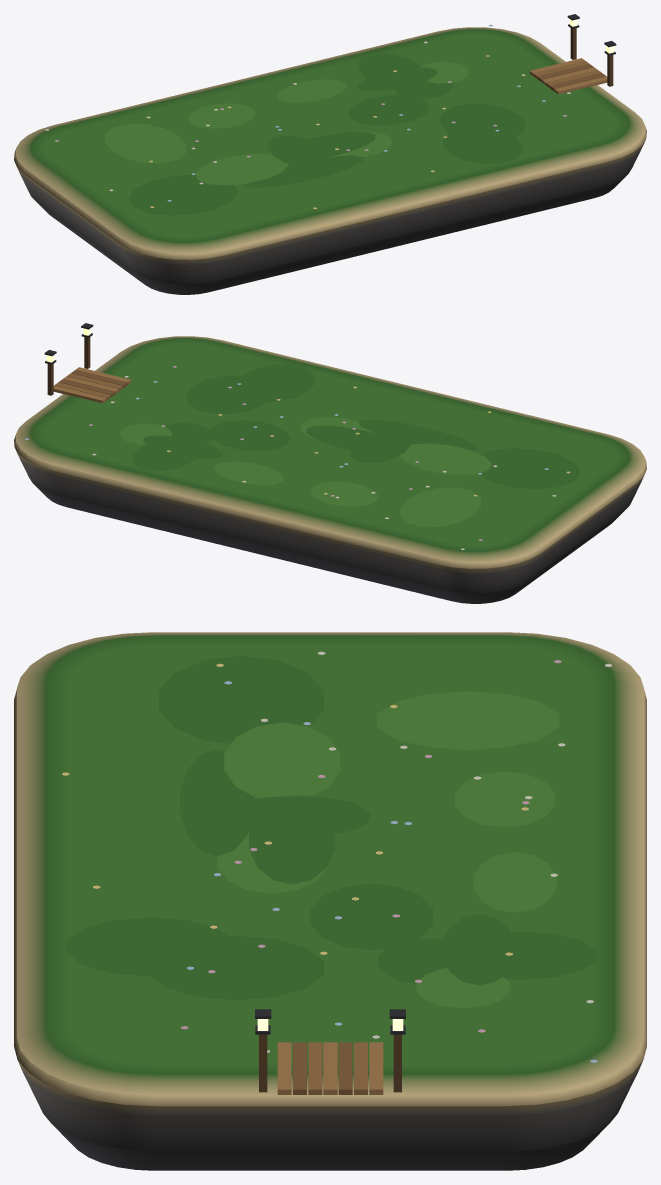
File: island-a.glb
3 views of the same model, one above another, from view 1: azimuth 30°, elevation 25°; view 2: azimuth 150°, elevation 25°; view 3: azimuth 270°, elevation 25° (orthographic). The views are drawn at different scales.
Size of the model in its own units: 19.05 by 3.47 by 10.8.
